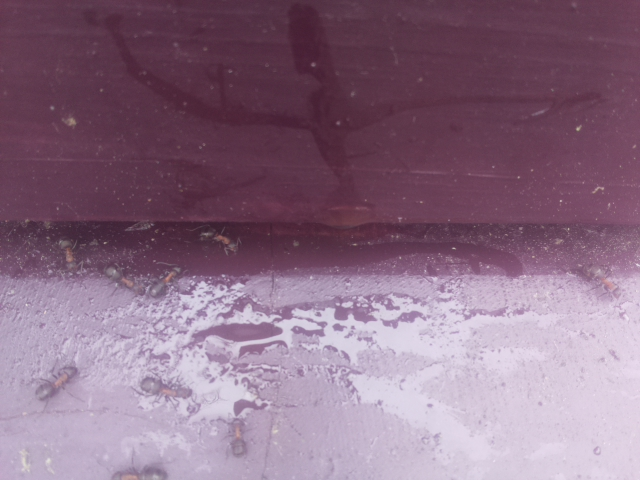ant: (26, 355, 87, 412), (98, 262, 164, 303), (190, 220, 243, 260), (132, 373, 196, 402), (145, 263, 185, 301), (51, 230, 84, 275), (229, 415, 250, 463), (587, 265, 621, 293), (113, 467, 170, 480)
